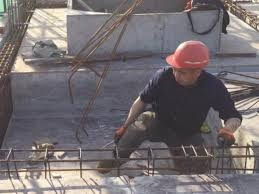red: (165, 39, 210, 85)
